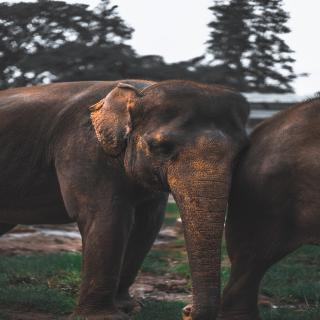Elephant: (1, 72, 264, 320)
